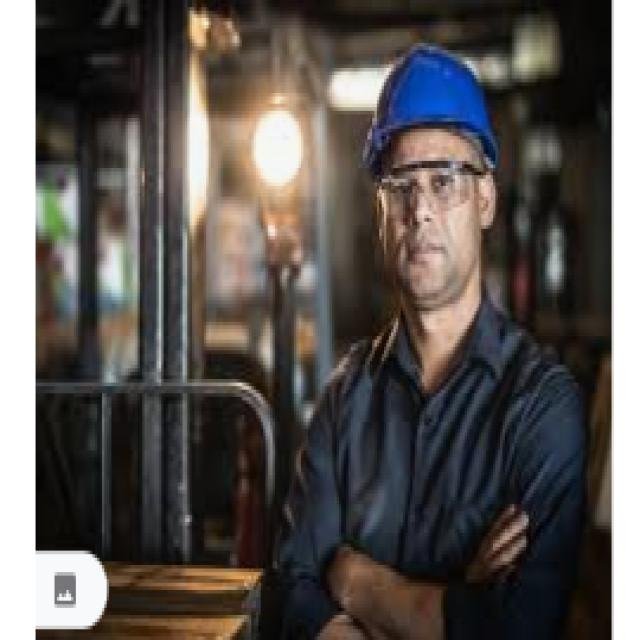glasses: (374, 160, 488, 228)
